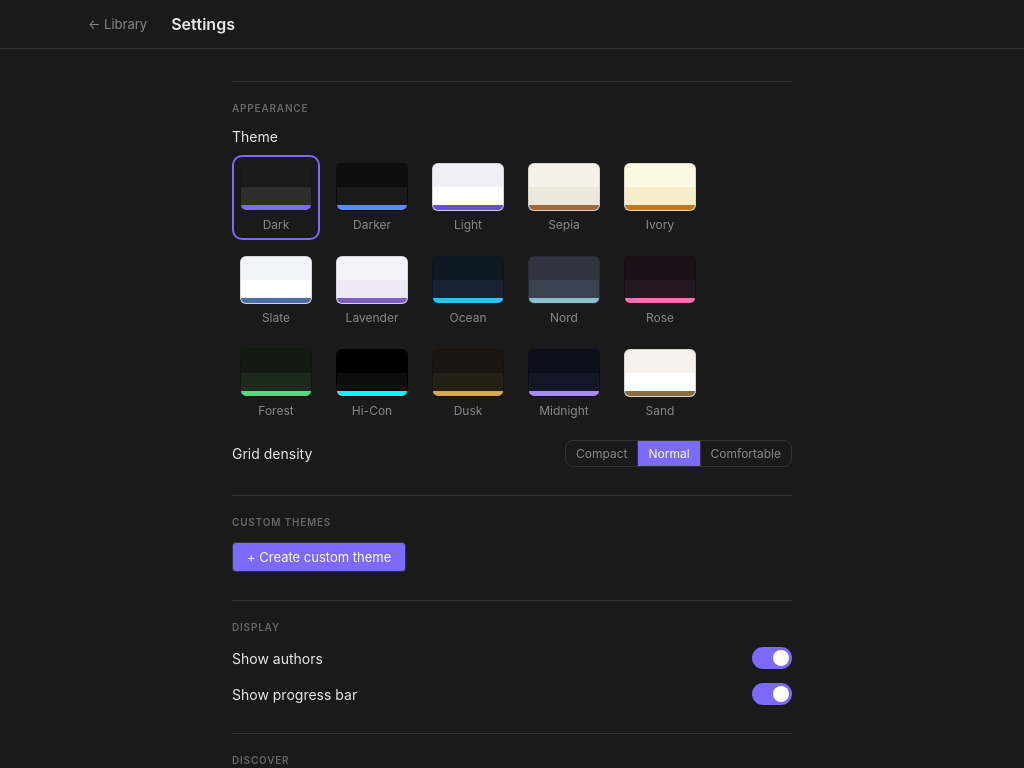
it: SettingsView — navigation & appearance › toggles display options, grid density, and default sort
Click the switch named "Show authors" in the row of "Show authors".
click(772, 658)  # box [752,647,792,669]
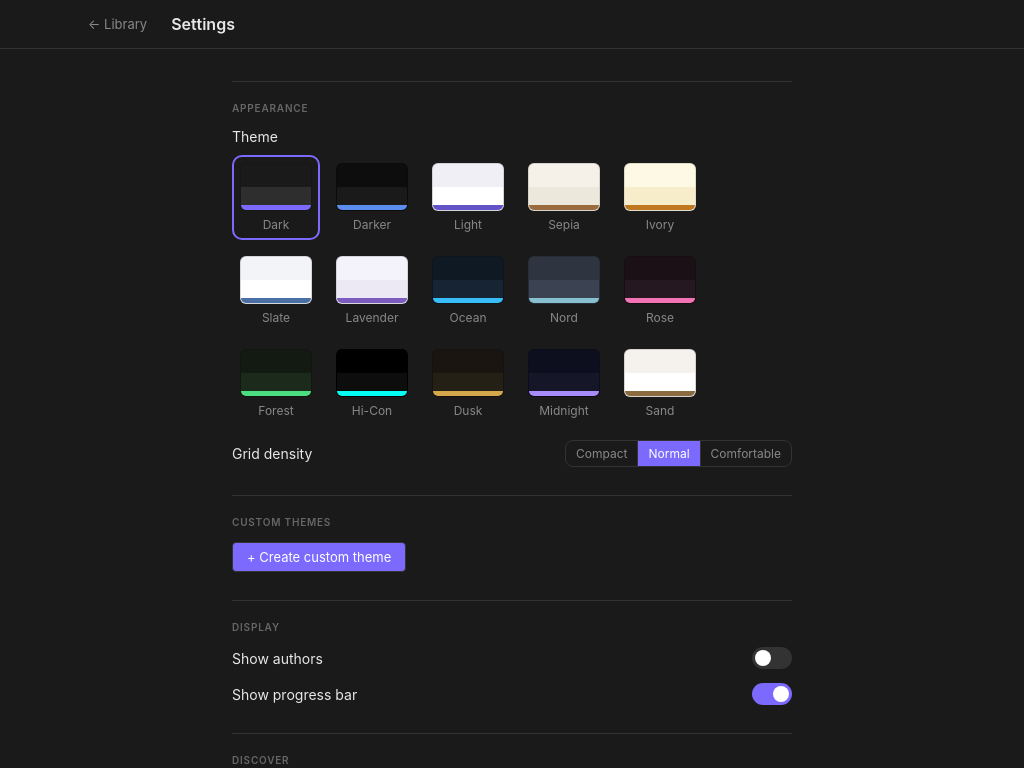
Expected: the switch named "Show authors" in the row of "Show authors" is not checked, [752,647,792,669]
Click the switch named "Show progress bar" in the row of "Show progress bar".
click(772, 694)  # box [752,683,792,705]
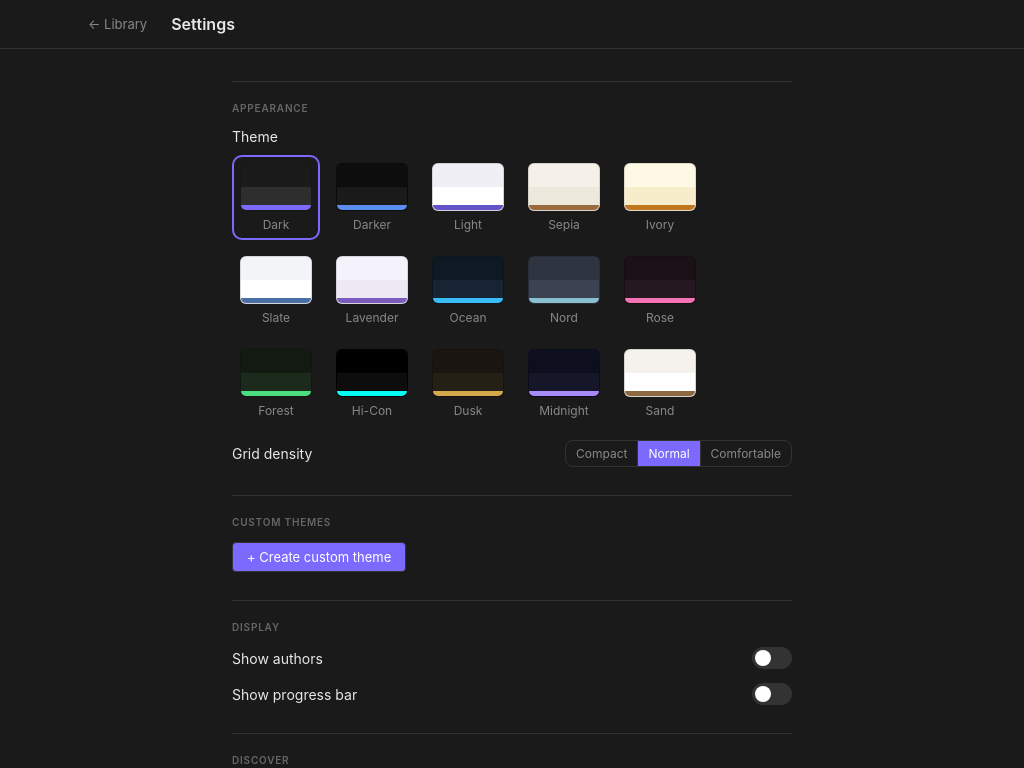
Expected: the switch named "Show progress bar" in the row of "Show progress bar" is not checked, [752,683,792,705]
Click the button "Comfortable".
click(746, 454)  # box [701,441,791,466]
(page scrolled)
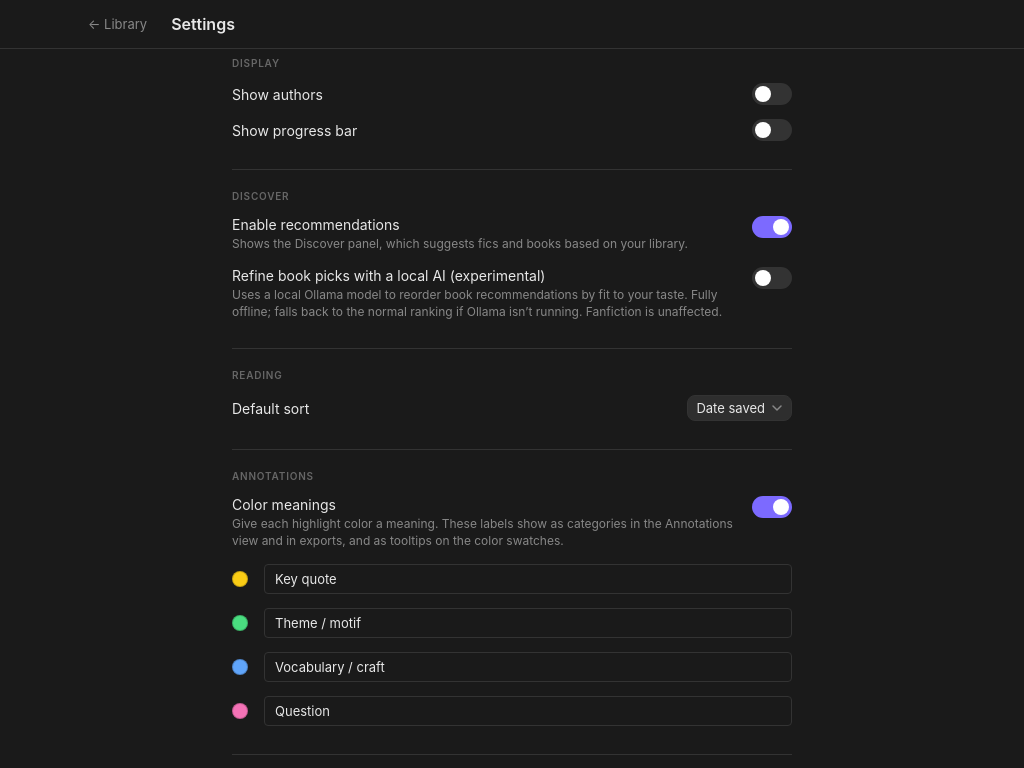
Click the button with aria-label ": Date saved".
click(740, 408)  # box [687,395,792,421]
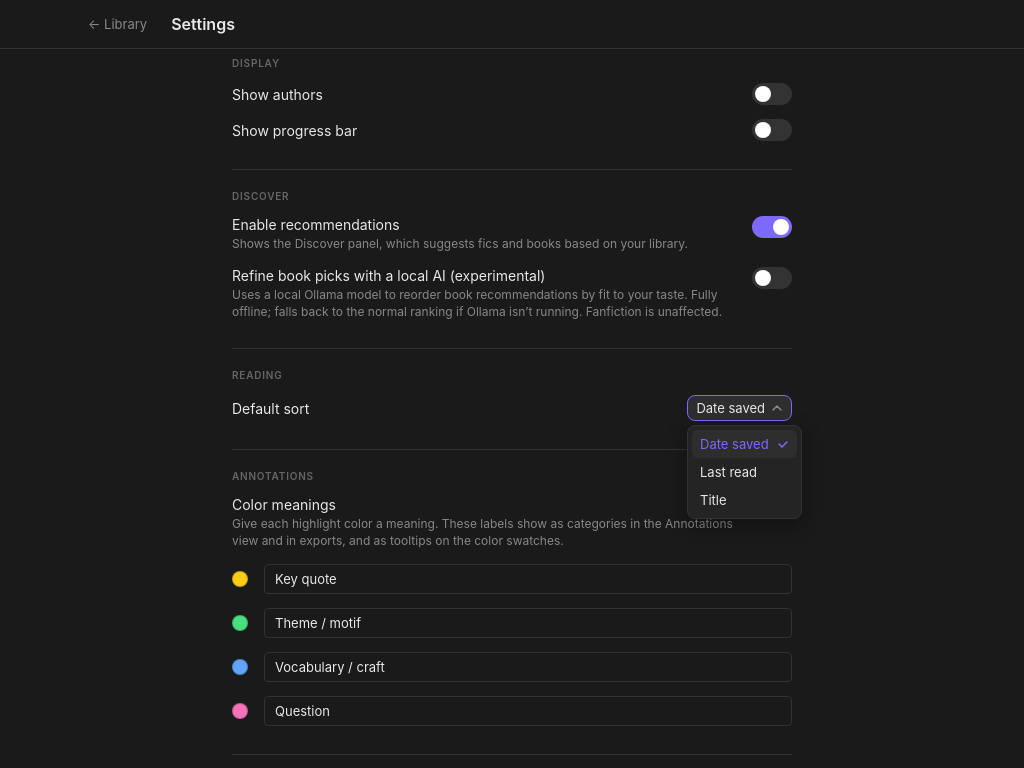
Click the option "Last read".
click(729, 472)  # box [700,464,757,480]
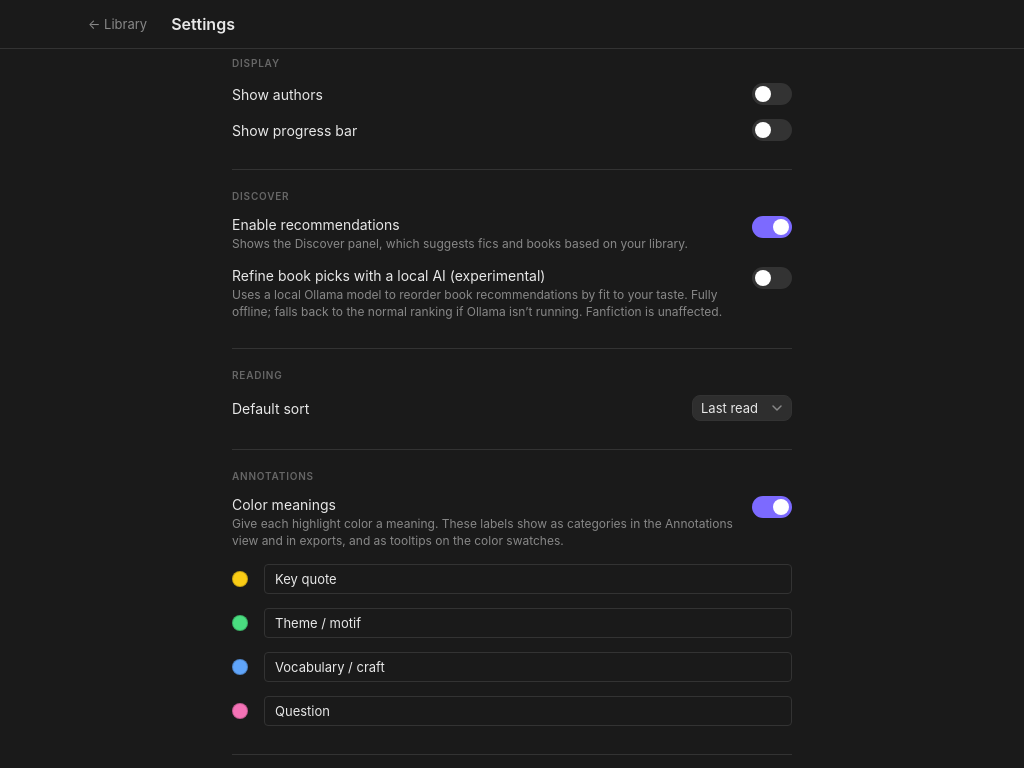
Expected: the button with aria-label ": Last read" is shown, [692,395,792,421]
